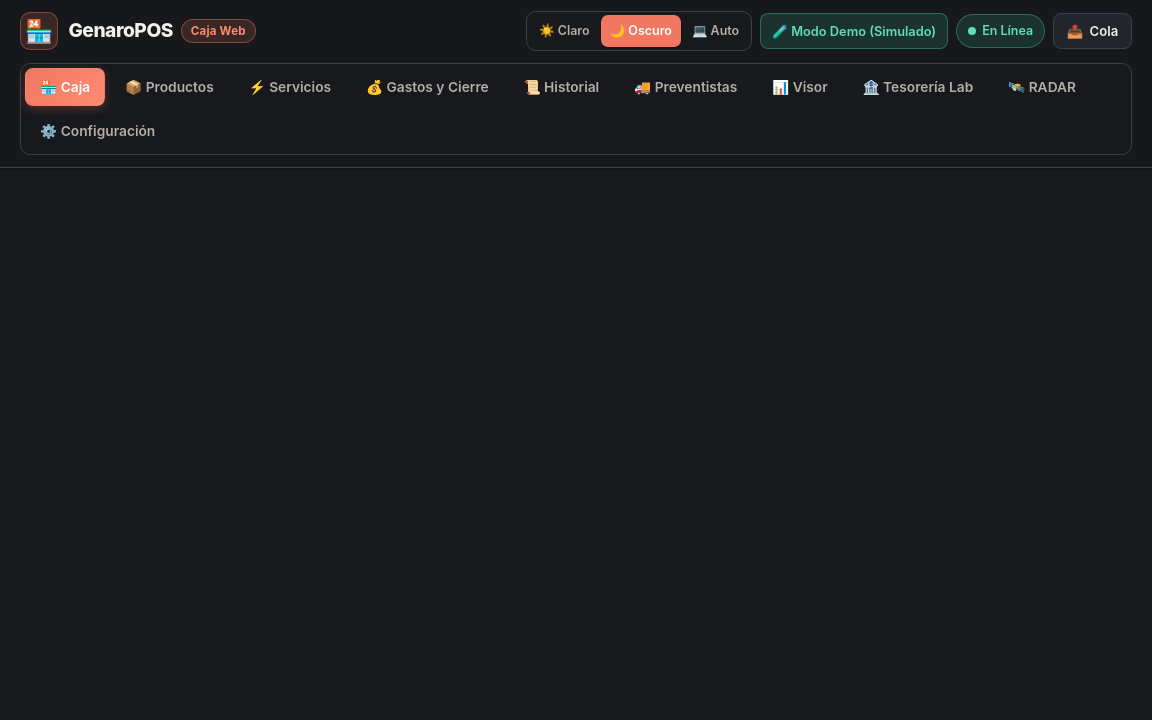
Test case: GenaroPOS — Sistema de Temas Visuales (Midnight Terracotta & Warm Ivory) › 3. Renderiza el selector de temas en el Header y persiste la elección en localStorage
Check: the element with test id "theme-selector" is shown, box [526, 11, 752, 51]
Click the button with test id "theme-btn-light": (564, 31) [530, 15, 598, 47]
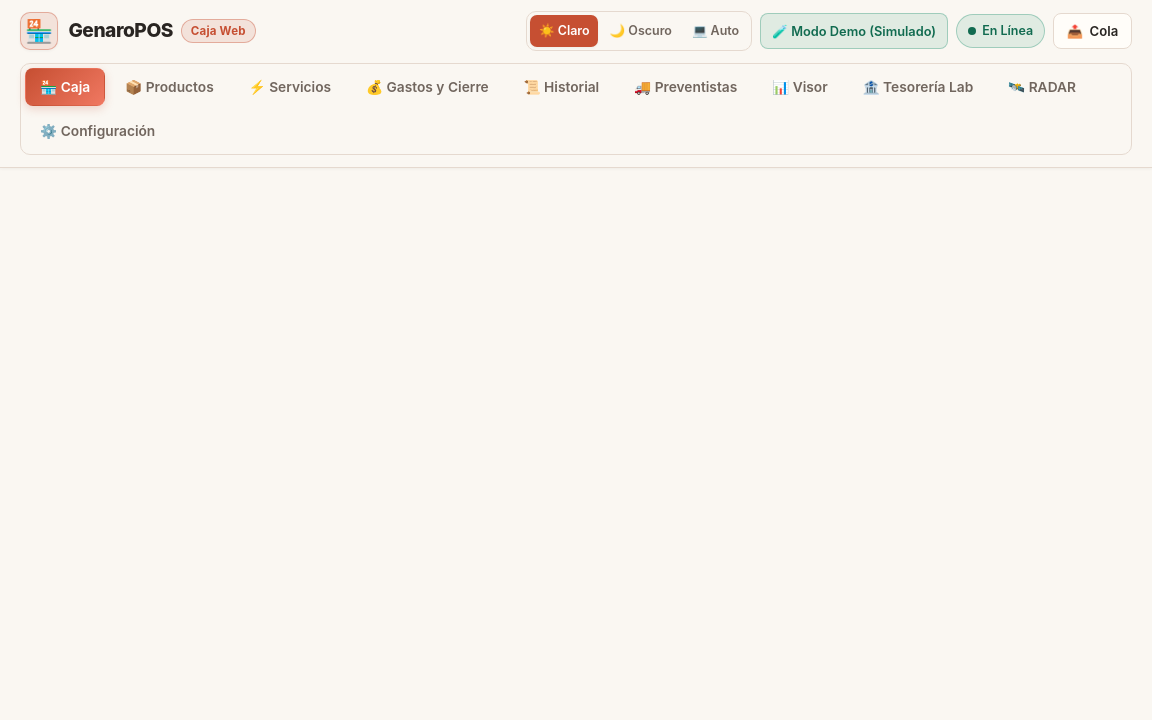
Check: the button with test id "theme-btn-light" is pressed, box [530, 15, 598, 47]
Click the button with test id "theme-btn-dark": (641, 31) [601, 15, 681, 47]
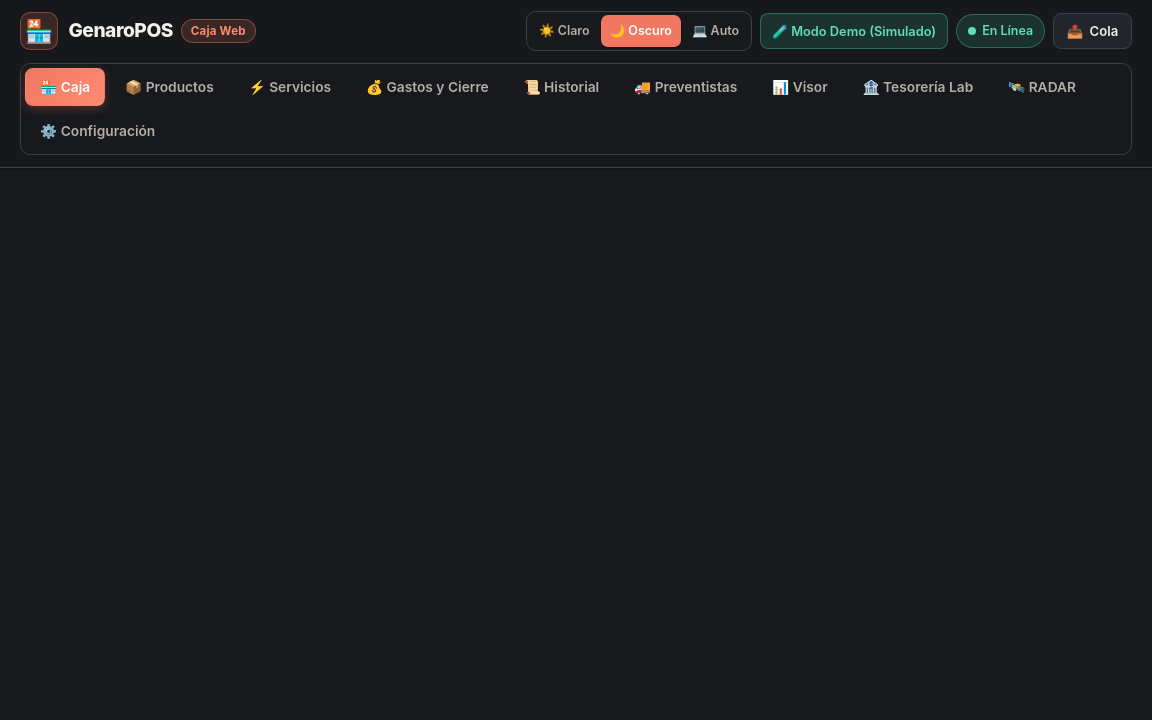
Check: the button with test id "theme-btn-dark" is pressed, box [601, 15, 681, 47]
Click the button with test id "theme-btn-system": (716, 31) [683, 15, 748, 47]
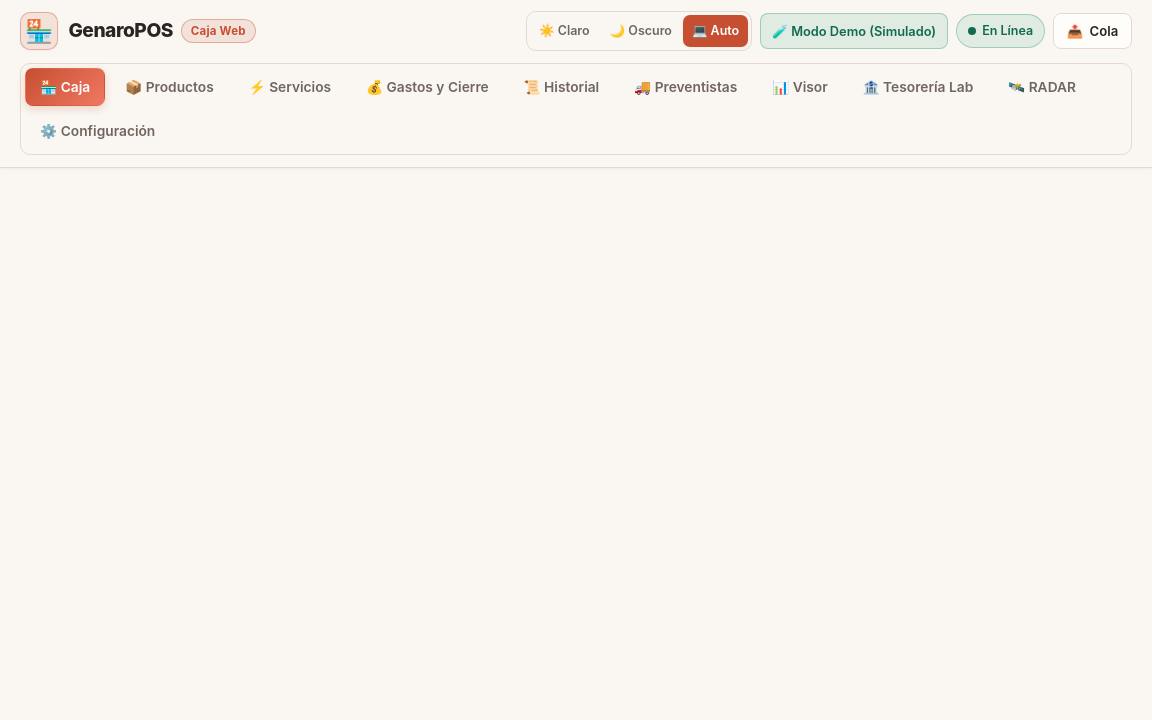
Check: the button with test id "theme-btn-system" is pressed, box [683, 15, 748, 47]
